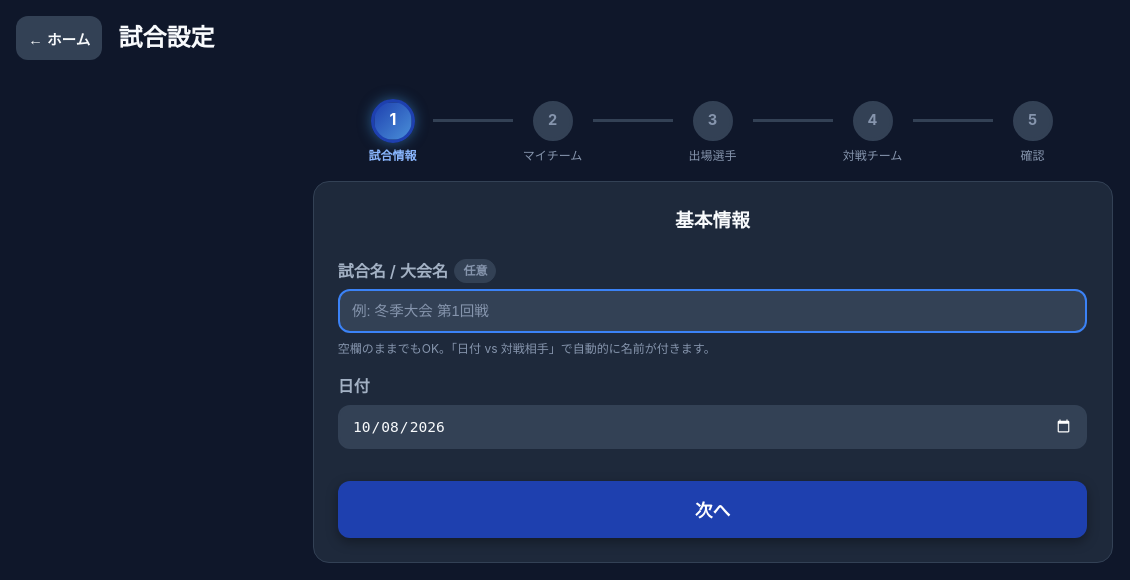
Test case: GameSetup 戻るボタンのラベル › 2つ目以降のステップでは1段だけ戻ることを名乗る
Click the button "次へ": (712, 509) top-left (338, 481), bottom-right (1087, 538)
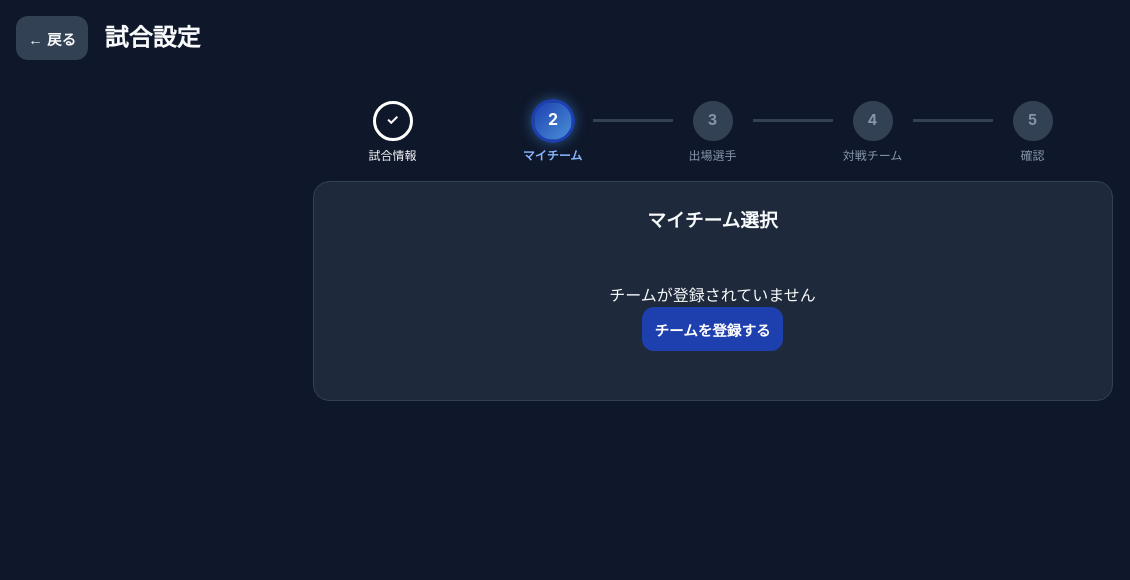
Result: the button "← 戻る" is shown at top-left (16, 16), bottom-right (88, 60)
Result: the button "← ホーム" is gone
